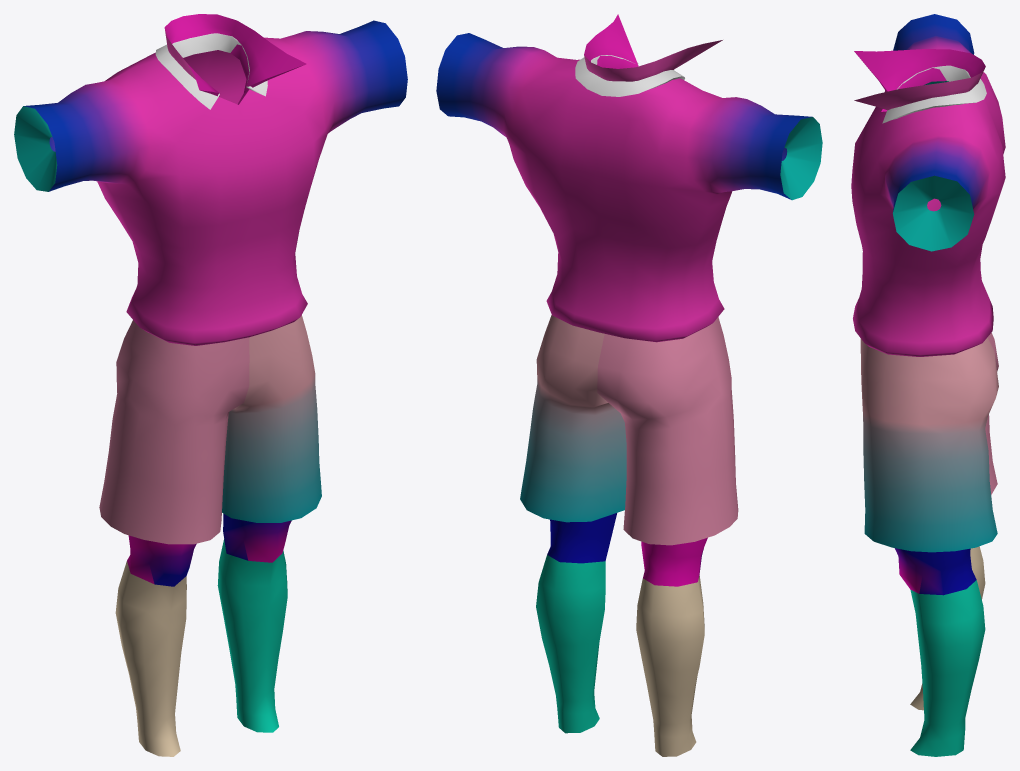
File: 00_Strong.fbx
3 views of the same model, side by side, from view 1: azimuth 30°, elevation 25°; view 2: azimuth 150°, elevation 25°; view 3: azimuth 270°, elevation 25° (orthographic). The views are drawn at different scales.
Visible parts, largest first — view 1: u000108_20, u000108_30, collar_11, collar_10; view 2: u000108_30, u000108_20, collar_11, collar_10; view 3: u000108_30, u000108_20, collar_11, collar_10.
Boxes of the visible parts, x1,y1,x2,y2 form: u000108_20: (14, 20, 407, 345); u000108_30: (99, 315, 321, 756); collar_11: (164, 14, 306, 96); collar_10: (155, 33, 267, 109); u000108_30: (520, 315, 738, 756); u000108_20: (436, 33, 822, 342); collar_11: (584, 14, 722, 81); collar_10: (575, 55, 684, 96); u000108_30: (860, 333, 998, 756); u000108_20: (851, 14, 1005, 356); collar_11: (854, 49, 985, 110); collar_10: (882, 65, 986, 123).
Size of the model in its own units: 77.37 by 148 by 31.22.
